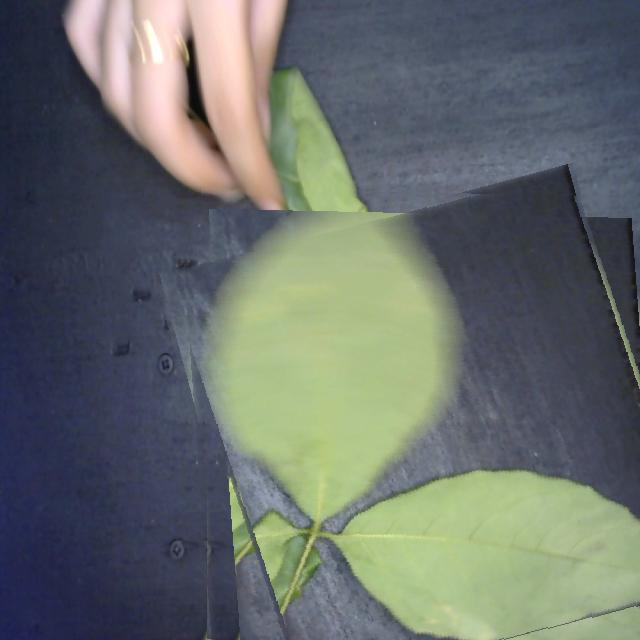biodegradable: (178, 187, 640, 640)
